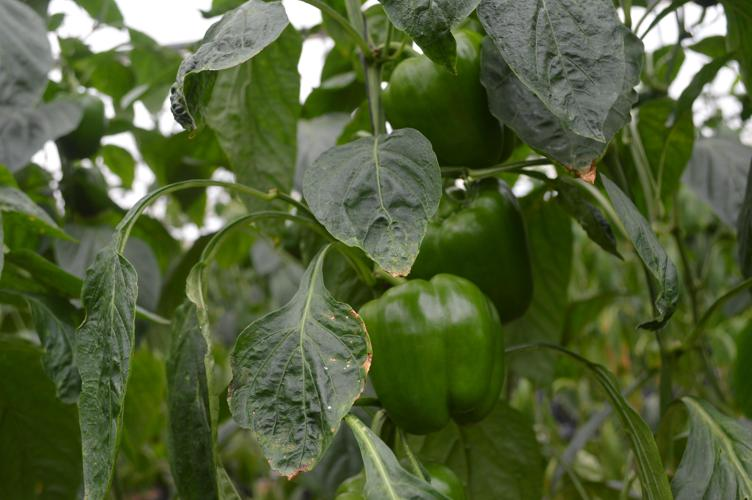BellPepper: (356, 276, 515, 436), (378, 28, 509, 176), (395, 181, 528, 308)
